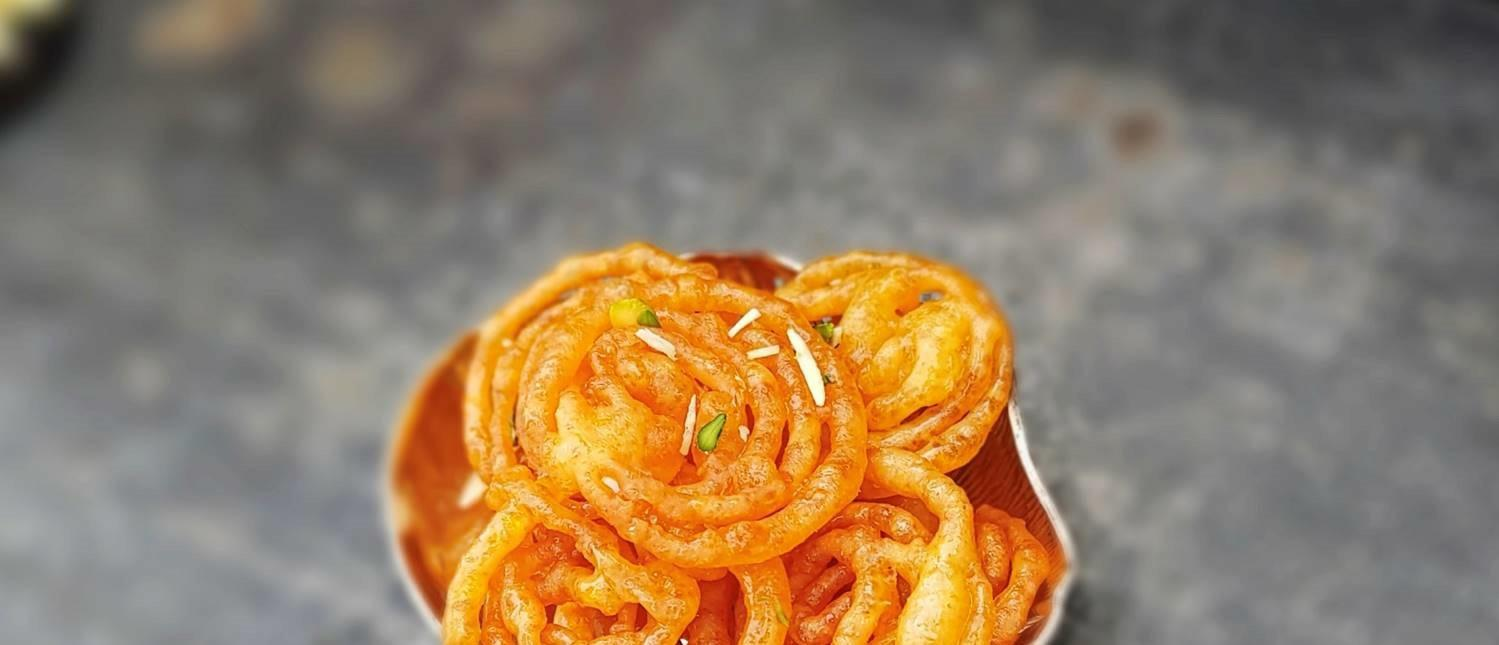Jalebi: (452, 237, 1043, 645)
